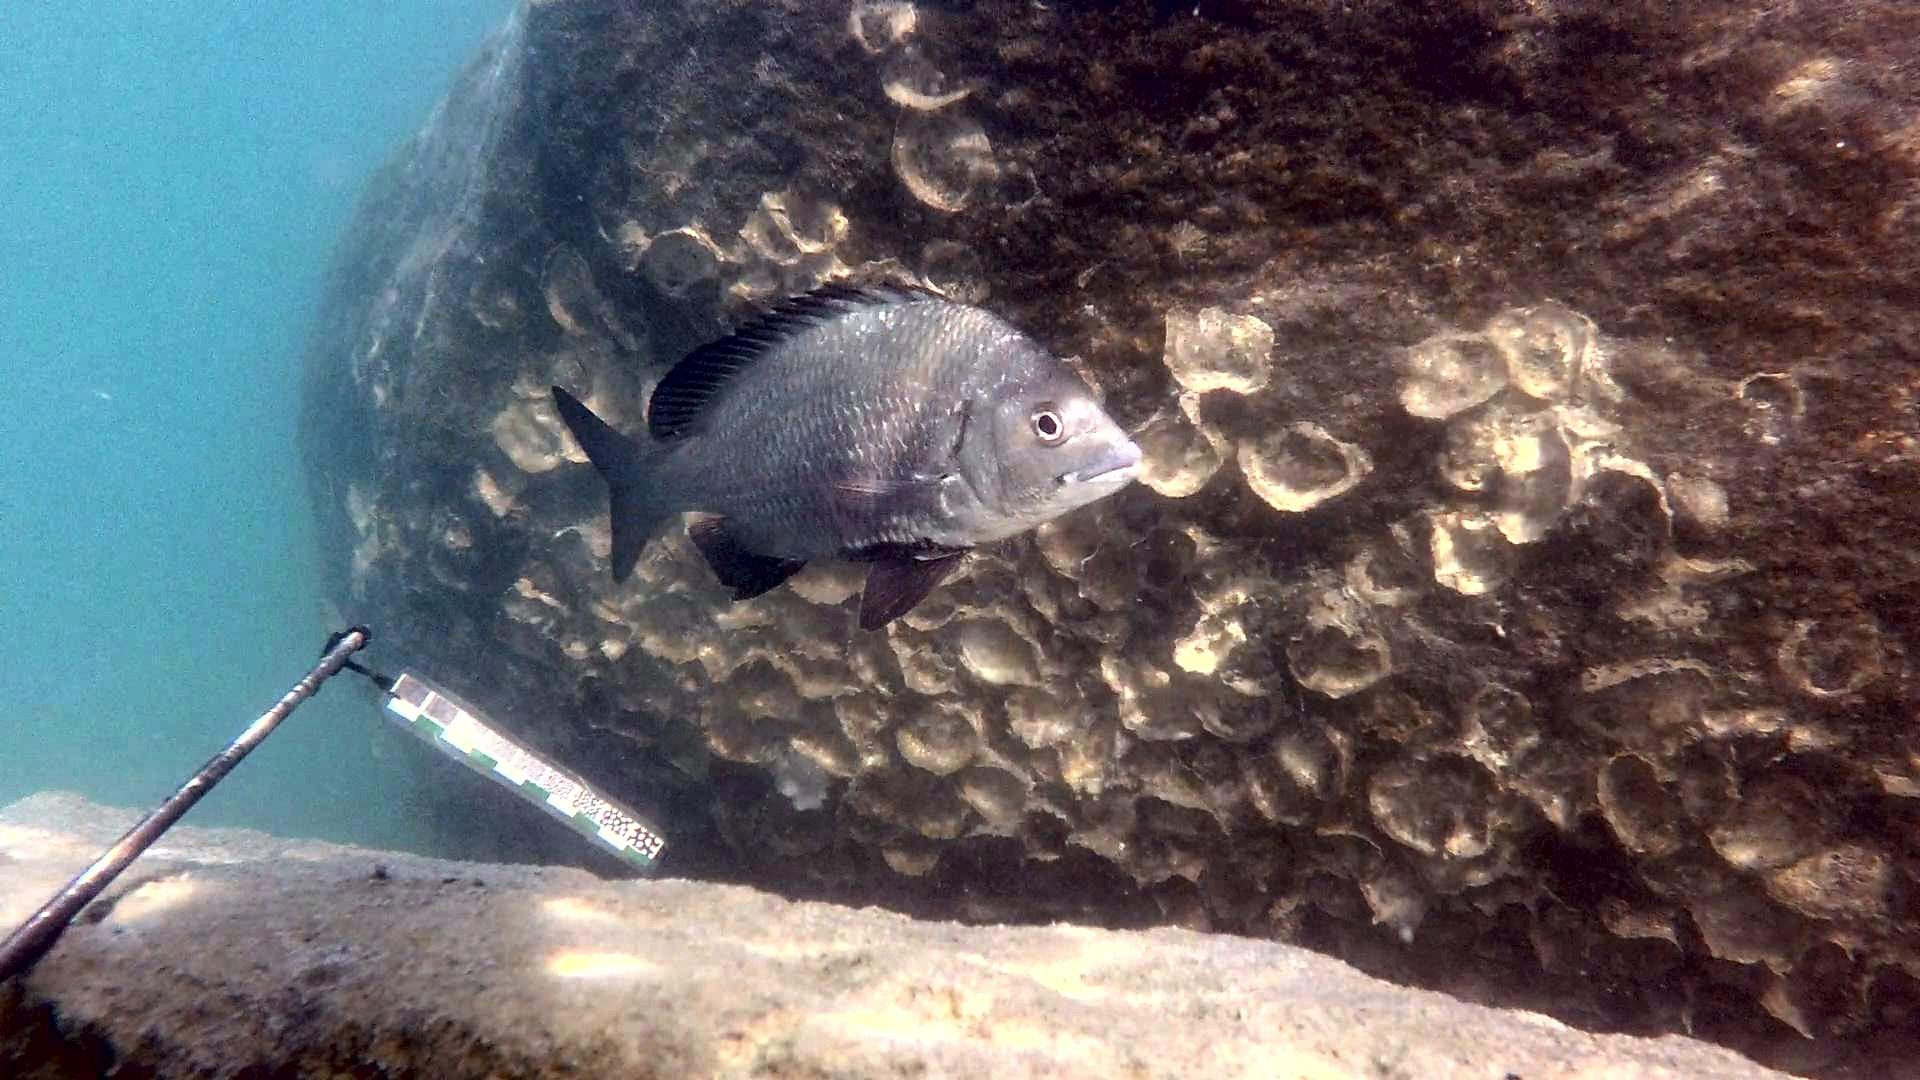acanthopagrus palmaris: (538, 269, 1153, 637)
